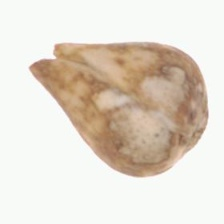L1: (27, 41, 81, 70), (187, 104, 210, 156)
L2: (27, 41, 209, 178)
